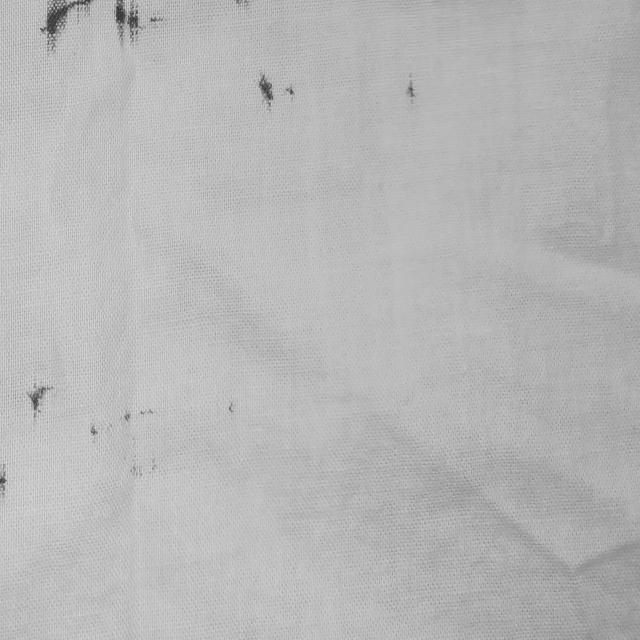Stain: (40, 0, 94, 54), (114, 0, 146, 47), (26, 384, 51, 418), (129, 451, 158, 478), (258, 72, 275, 109), (0, 463, 8, 503), (406, 74, 416, 101), (88, 421, 99, 444), (281, 83, 295, 99), (235, 0, 252, 10), (123, 410, 132, 422), (228, 400, 235, 414), (150, 16, 164, 23), (140, 408, 154, 415)
